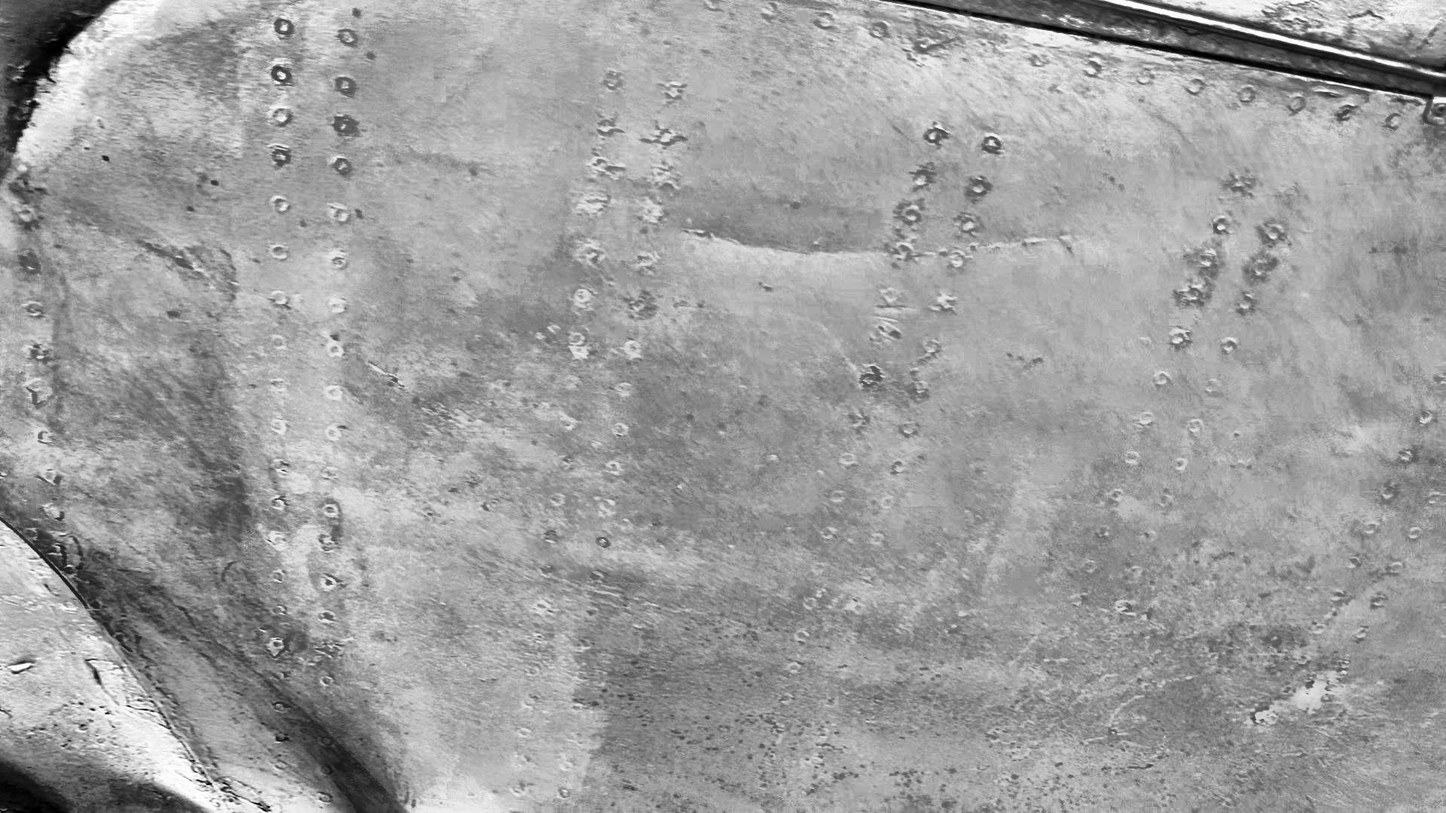dent: (9, 0, 117, 151), (714, 230, 891, 265), (136, 773, 220, 813)
paint-peel-off: (1252, 708, 1271, 725), (1301, 677, 1314, 698)
